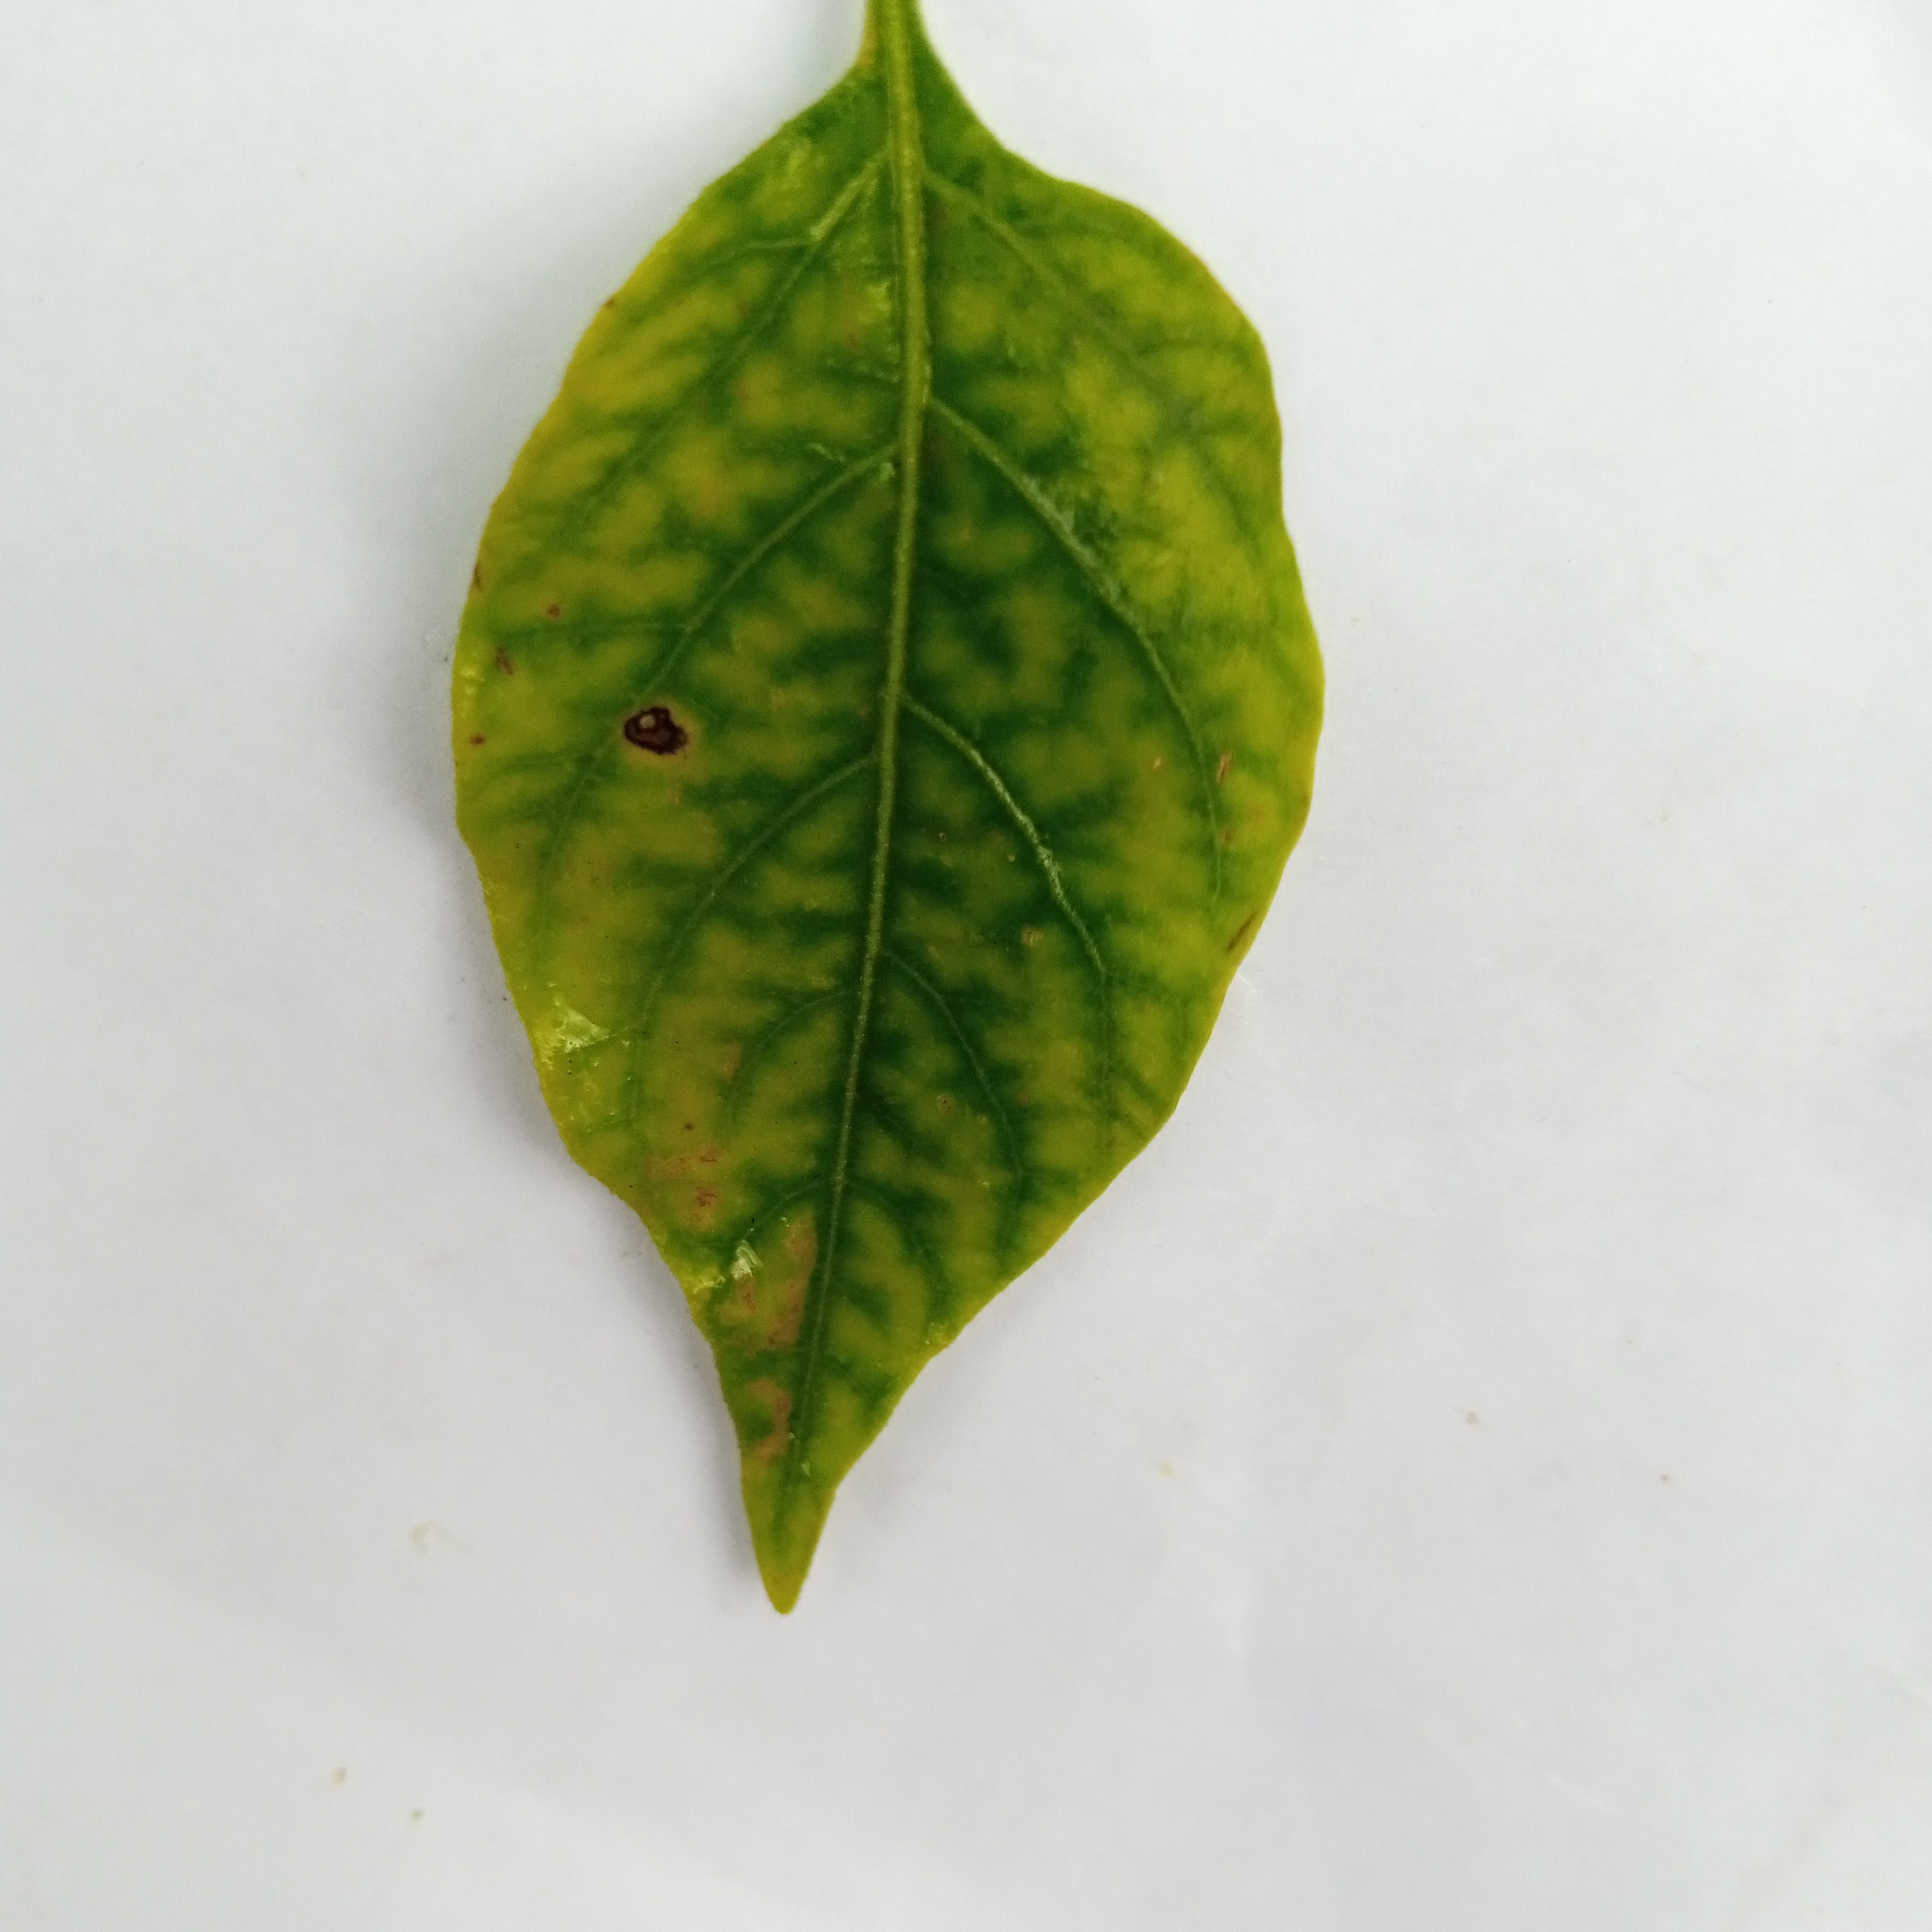Leaf: (331, 65, 1575, 1698)
